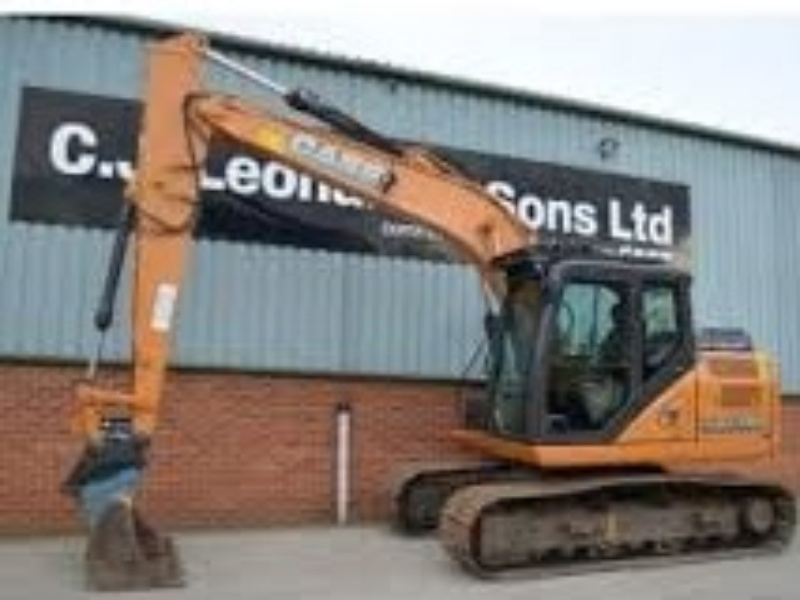wajueji: (342, 168, 800, 592)
